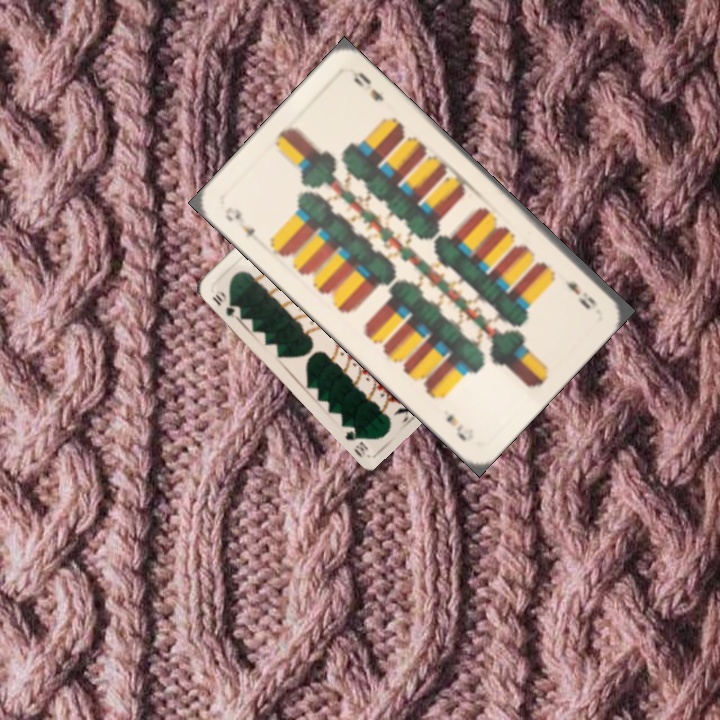E9: (221, 203, 258, 239), (562, 278, 600, 312)
G10: (208, 288, 239, 321)
